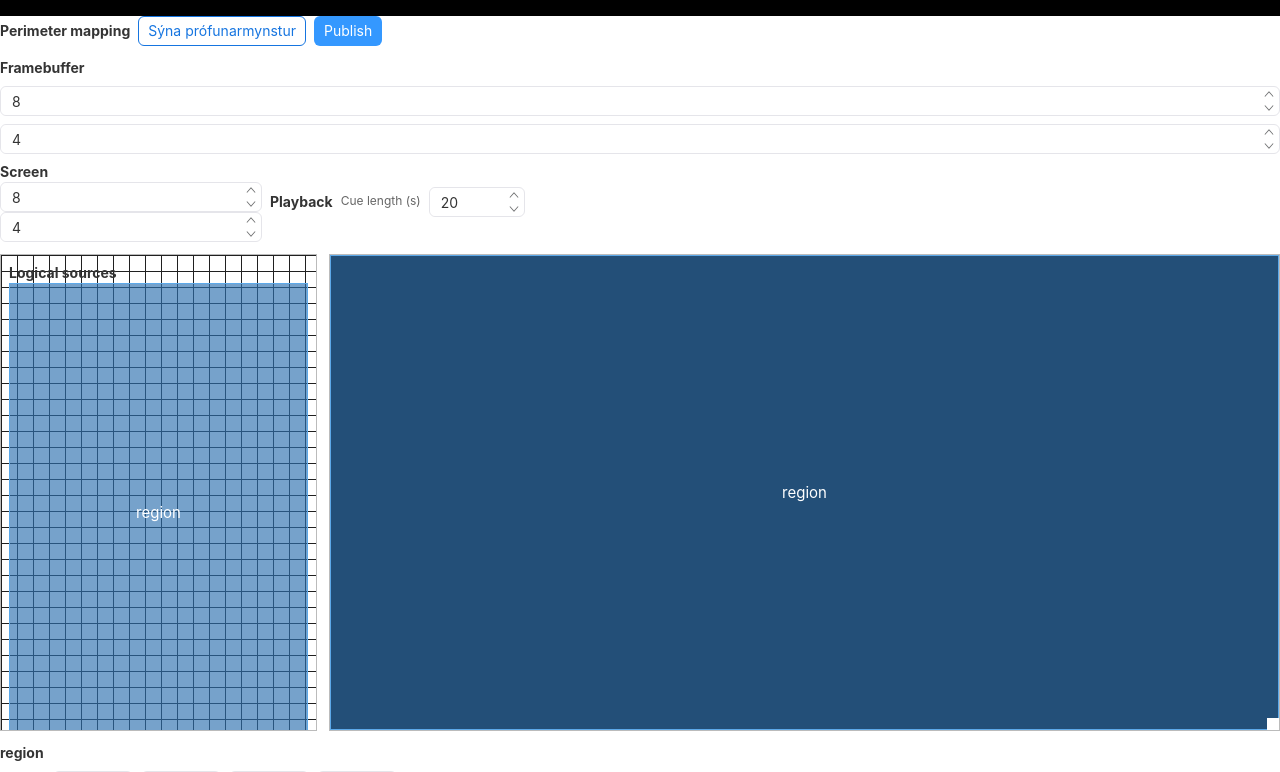
Test case: PerimeterMappingEditor › blocks publishing a non-positive cue duration
Replace the text in the field named "cue duration seconds" with "0": (467, 202) [430, 188, 504, 216]
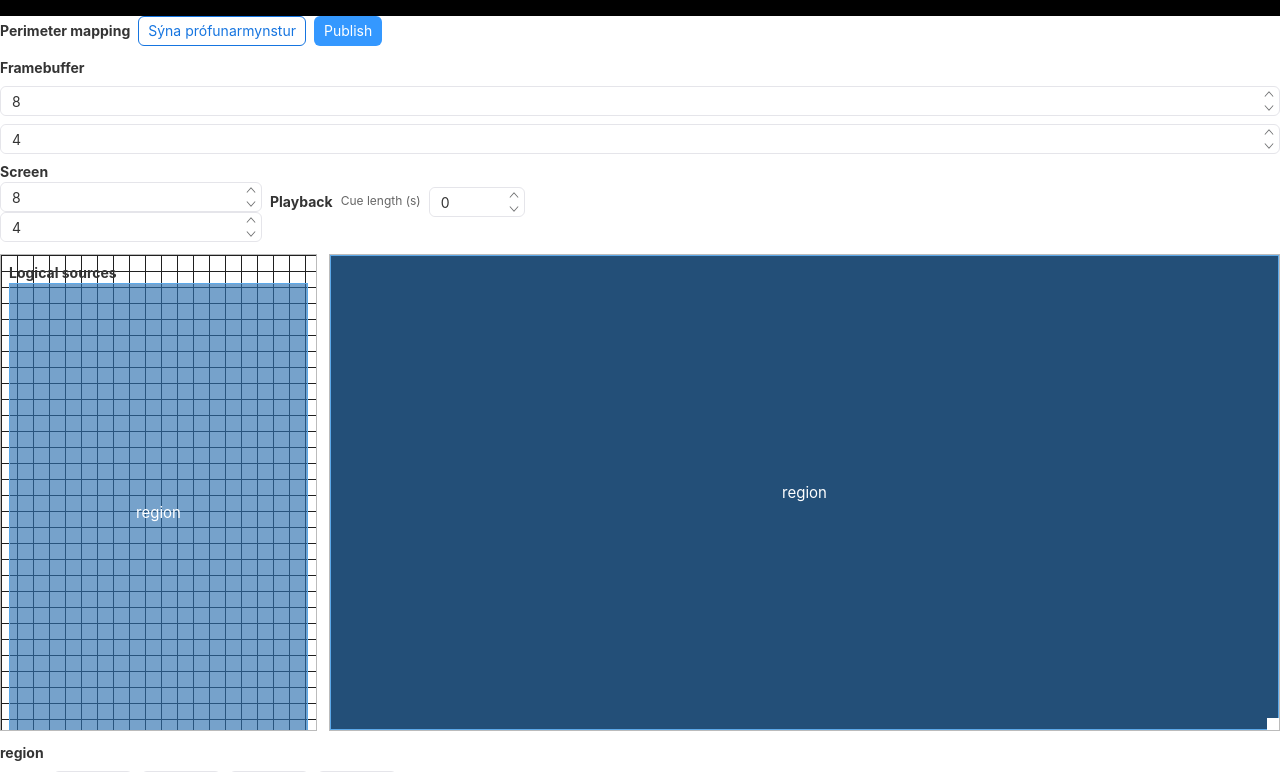
Click the button "Publish": (348, 31) [314, 16, 382, 46]
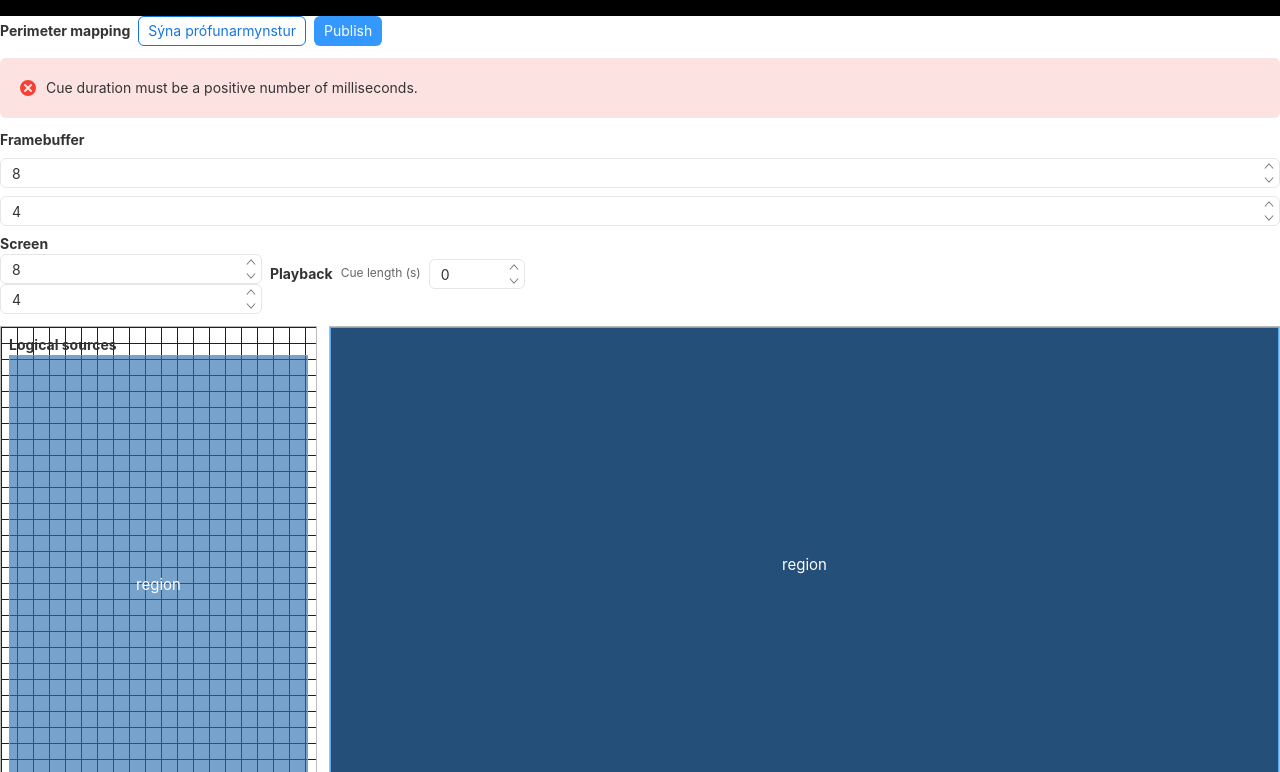
Expected: the text "Cue duration must be a positive number of milliseconds." is shown, [46, 79, 418, 96]
